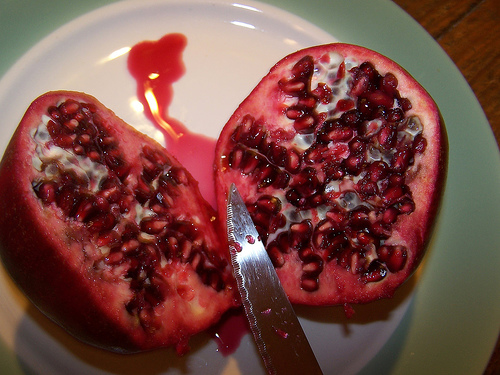pomogranate: (0, 91, 240, 353), (213, 42, 448, 309)
